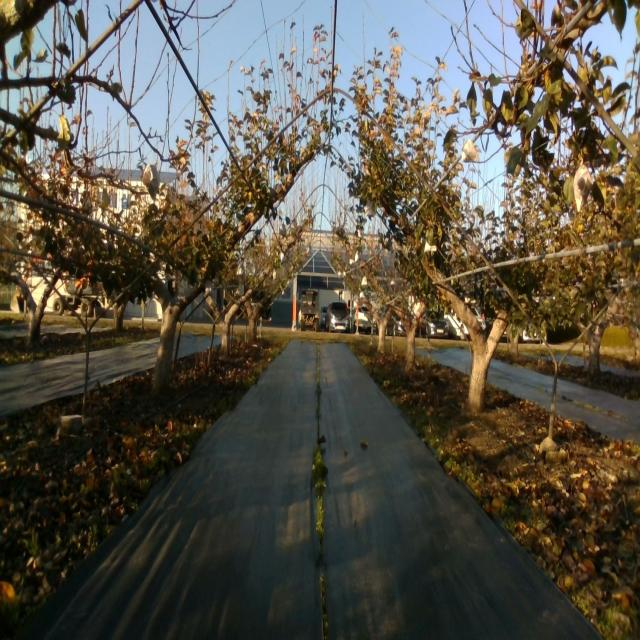pearbags: (573, 158, 594, 213), (142, 160, 160, 206), (462, 139, 479, 164)
